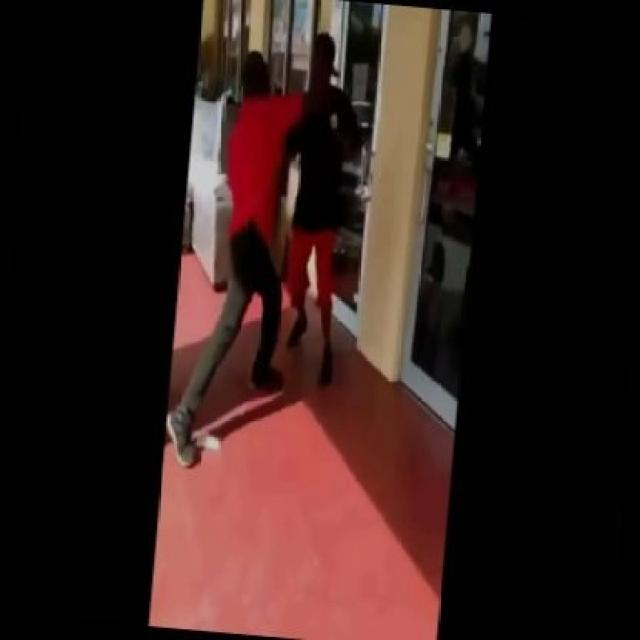fight: (168, 6, 390, 480)
